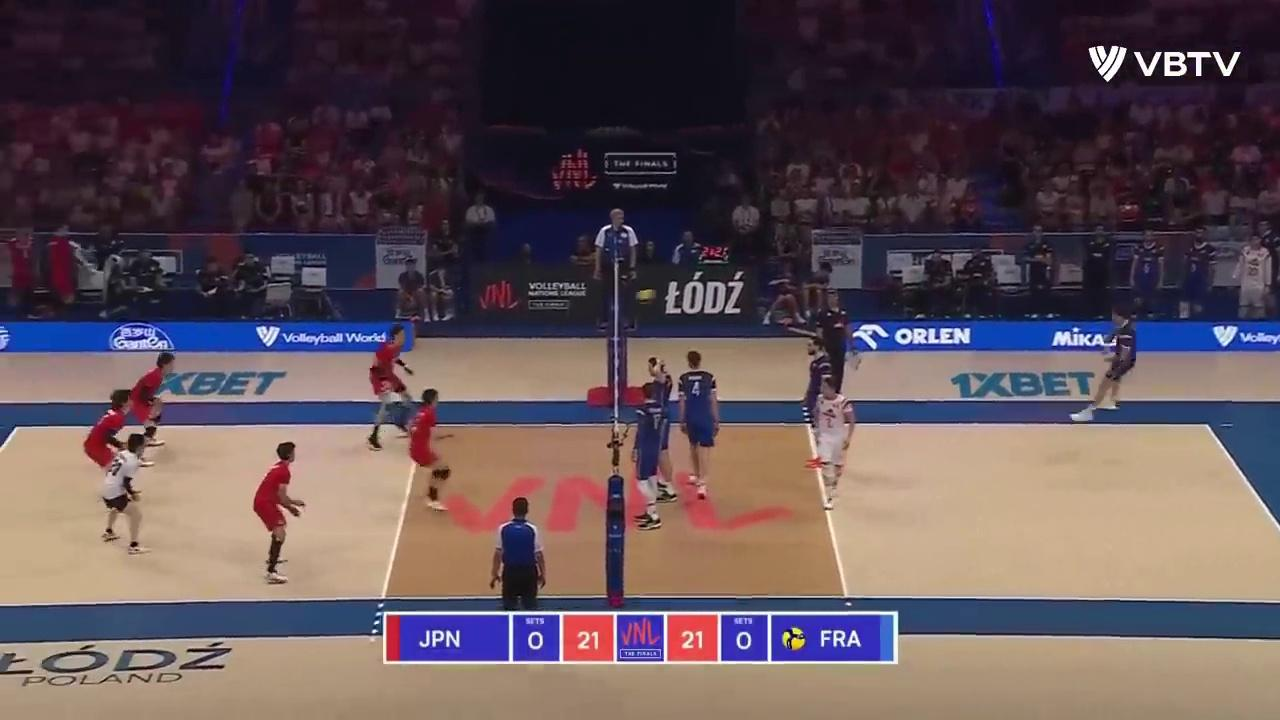ball: (638, 289, 656, 302)
